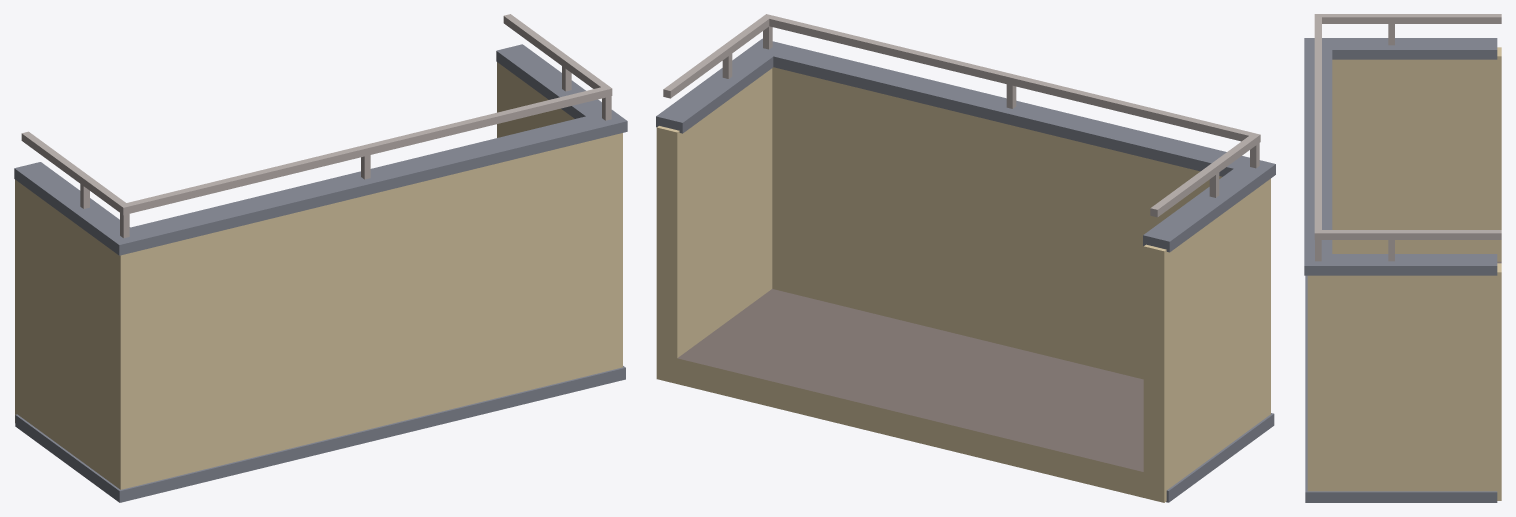
The model's file is SM_Fixture_BalconyShort16520_Yellow_01.gltf.
The picture shows the model from 3 angles, left to right: view 1: azimuth 30°, elevation 25°; view 2: azimuth 150°, elevation 25°; view 3: azimuth 270°, elevation 25°; orthographic projection. The views are drawn at different scales.
Visible parts, largest first — view 1: SM_Fixture_BalconyShort16520_Yellow_01; view 2: SM_Fixture_BalconyShort16520_Yellow_01; view 3: SM_Fixture_BalconyShort16520_Yellow_01.
Boxes of the visible parts, box(x1,y1,x2,y2) form: SM_Fixture_BalconyShort16520_Yellow_01: box(14, 14, 627, 502); SM_Fixture_BalconyShort16520_Yellow_01: box(656, 14, 1275, 502); SM_Fixture_BalconyShort16520_Yellow_01: box(1304, 14, 1501, 502).
Bounding box in the file's own units: 2.5 × 1.36 × 0.915.
1 material, 1 textured.
